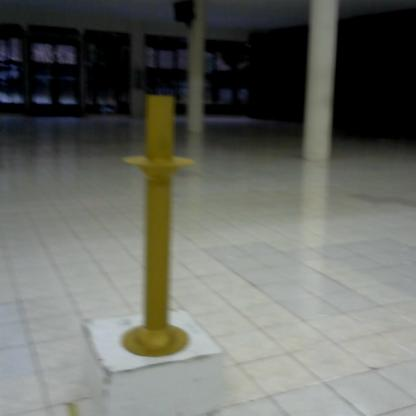pole: (114, 88, 197, 362)
